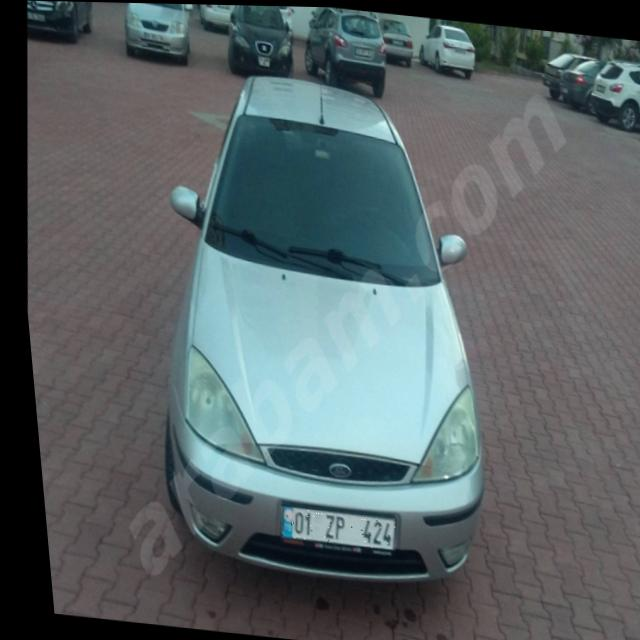license_plate: (269, 505, 388, 549)
